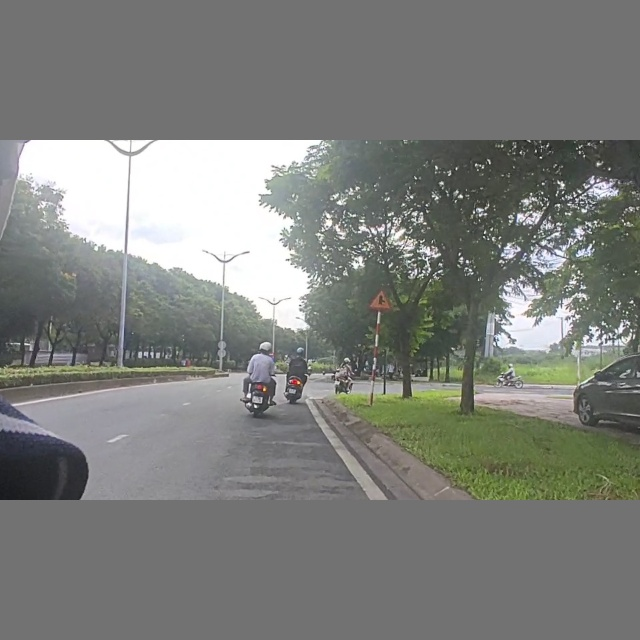W.207: (367, 288, 397, 313)
